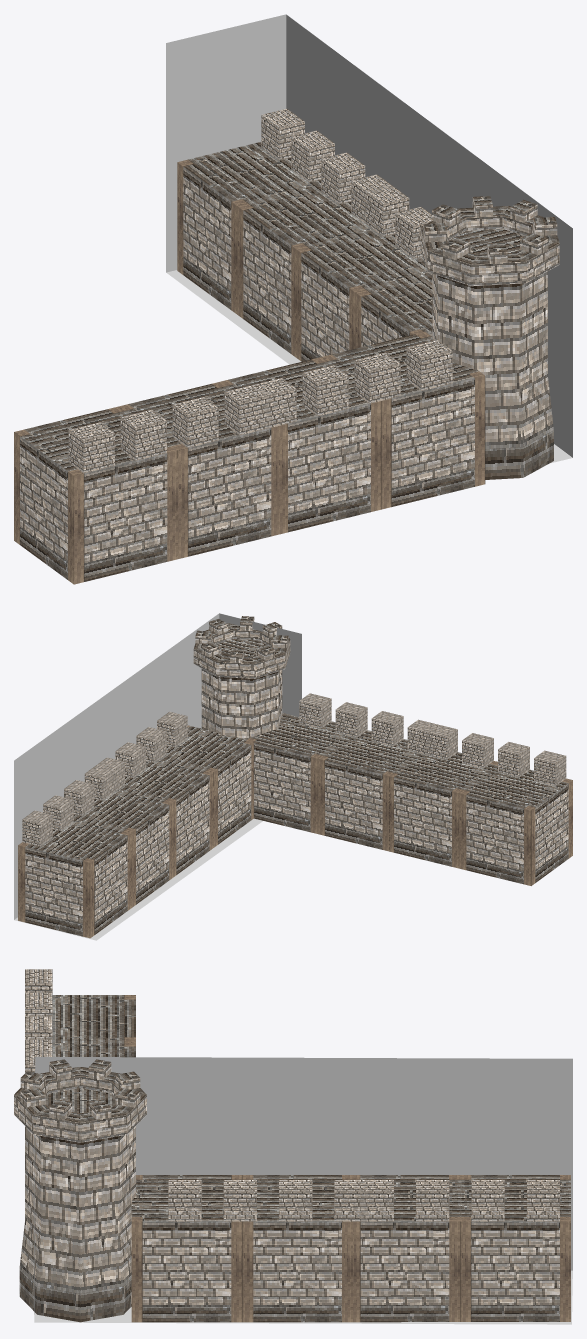
File: wall_large_tower_L.glb
The picture shows the model from 3 angles, top to bottom: view 1: azimuth 30°, elevation 25°; view 2: azimuth 150°, elevation 25°; view 3: azimuth 270°, elevation 25°; orthographic projection. The views are drawn at different scales.
Visible parts, largest first — view 1: Wall_Tower-colonly.001, Wall_Left_0.001, Tower_Base, Wall_Left_1, Wall_Left_0, Wall_Left_1.001, Wall_Right_1.001, Wall_Right_0.001, Wall_Right_1, Tower_Top, Wall_Right_0, Merlon_L_2 (+13 smaller); view 2: Wall_Tower-colonly.001, Wall_Left_0.001, Wall_Right_1.001, Wall_Left_0, Wall_Left_1.001, Wall_Left_1, Wall_Right_0.001, Wall_Right_1, Wall_Right_0, Tower_Base, Tower_Top, Merlon_L_3 (+15 smaller); view 3: Wall_Tower-colonly.001, Tower_Base, Wall_Right_0, Wall_Right_1, Wall_Right_1.001, Wall_Right_0.001, Tower_Top, Wall_Left_0.001, Merlon_R_4, Merlon_R_5, Merlon_R_6, Merlon_R_6.001 (+8 smaller).
Boxes of the visible parts, left/top/right/bottom form: Wall_Tower-colonly.001: left=166, top=14, right=572, bottom=463; Wall_Left_0.001: left=14, top=406, right=177, bottom=584; Tower_Base: left=432, top=228, right=553, bottom=479; Wall_Left_1: left=322, top=332, right=485, bottom=509; Wall_Left_0: left=220, top=357, right=381, bottom=534; Wall_Left_1.001: left=118, top=381, right=281, bottom=558; Wall_Right_1.001: left=177, top=142, right=321, bottom=314; Wall_Right_0.001: left=237, top=185, right=374, bottom=358; Wall_Right_1: left=296, top=229, right=431, bottom=361; Tower_Top: left=420, top=196, right=559, bottom=286; Wall_Right_0: left=355, top=274, right=432, bottom=348; Merlon_L_2: left=354, top=352, right=400, bottom=403; Wall_Tower-colonly.001: left=14, top=613, right=301, bottom=940; Wall_Left_0.001: left=459, top=765, right=572, bottom=885; Wall_Right_1.001: left=18, top=818, right=131, bottom=938; Wall_Left_0: left=317, top=730, right=420, bottom=851; Wall_Left_1.001: left=387, top=752, right=497, bottom=868; Wall_Left_1: left=246, top=713, right=348, bottom=833; Wall_Right_0.001: left=73, top=789, right=173, bottom=907; Wall_Right_1: left=118, top=759, right=213, bottom=876; Wall_Right_0: left=160, top=725, right=254, bottom=847; Tower_Base: left=201, top=639, right=282, bottom=739; Tower_Top: left=193, top=616, right=290, bottom=678; Merlon_L_3: left=299, top=693, right=331, bottom=728; Wall_Tower-colonly.001: left=34, top=1057, right=572, bottom=1324; Tower_Base: left=19, top=1088, right=135, bottom=1322; Wall_Right_0: left=131, top=1175, right=242, bottom=1322; Wall_Right_1: left=242, top=1175, right=352, bottom=1322; Wall_Right_1.001: left=460, top=1175, right=570, bottom=1321; Wall_Right_0.001: left=350, top=1175, right=460, bottom=1322; Tower_Top: left=14, top=1059, right=146, bottom=1142; Wall_Left_0.001: left=52, top=995, right=135, bottom=1041; Merlon_R_4: left=168, top=1180, right=201, bottom=1221; Merlon_R_5: left=223, top=1180, right=256, bottom=1221; Merlon_R_6: left=279, top=1180, right=312, bottom=1221; Merlon_R_6.001: left=471, top=1180, right=504, bottom=1221.
Size of what is drawn, in the model's own units: 9.79 by 4.22 by 10.09.
30 materials, 30 textured.
